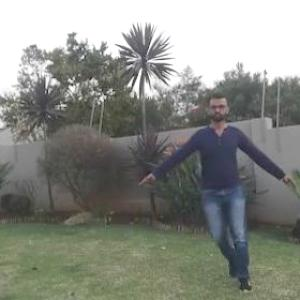land: (142, 100, 276, 264)
